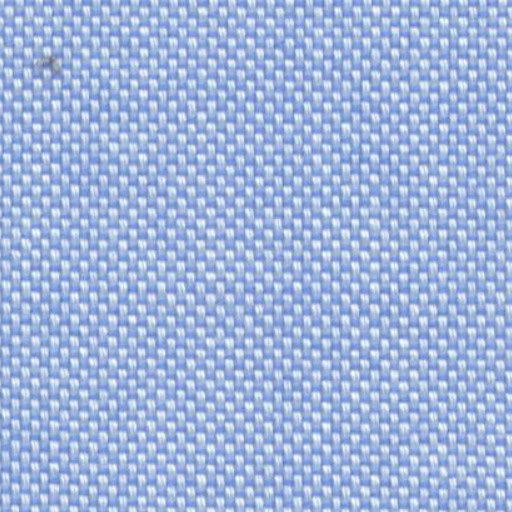WuZi: (16, 43, 80, 87)
